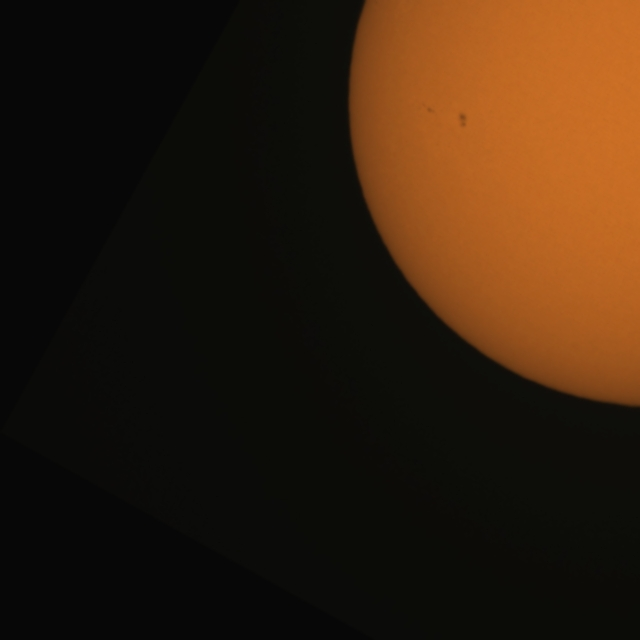sunspot: (456, 111, 469, 130), (424, 104, 436, 116)
